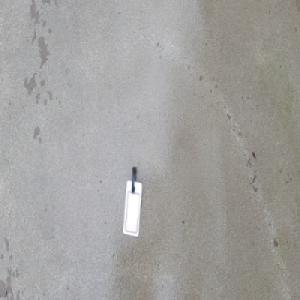LuggageTag: (121, 165, 142, 237)
